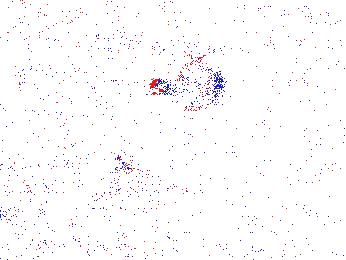flame jellyfish: (151, 61, 227, 113), (100, 155, 152, 222), (1, 166, 33, 218)
